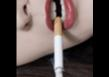Cigarette: (53, 15, 63, 77)
